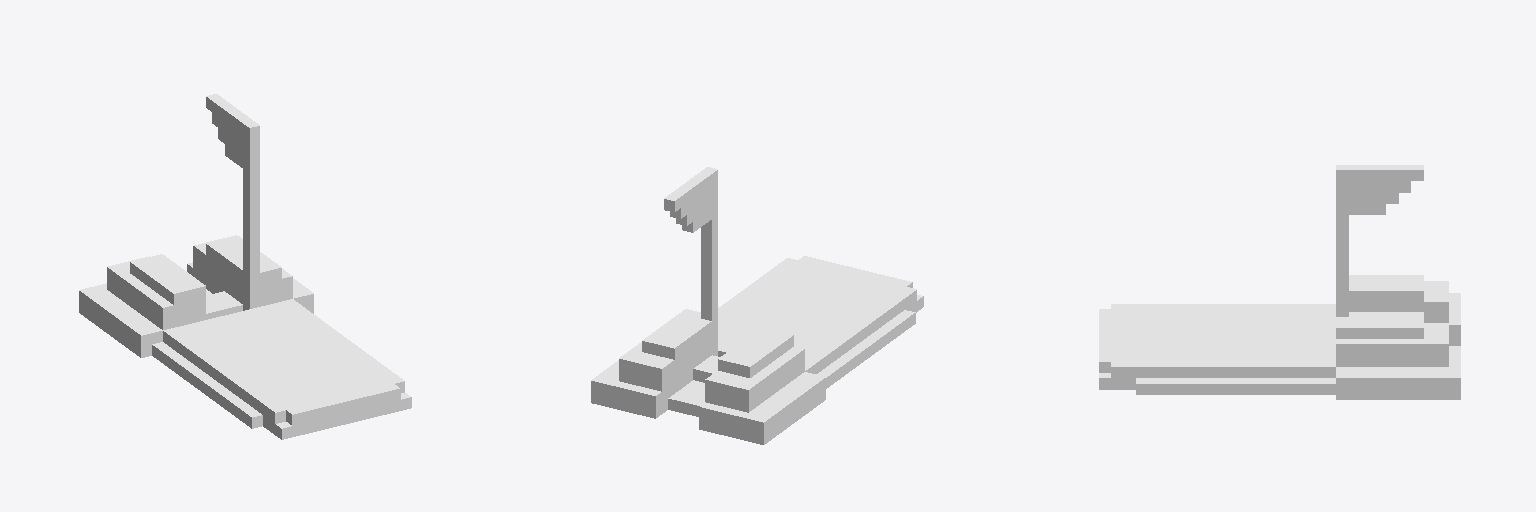
File: ship1.obj
3 views of the same model, side by side, from view 1: azimuth 30°, elevation 25°; view 2: azimuth 150°, elevation 25°; view 3: azimuth 270°, elevation 25° (orthographic).
Visible parts, largest first — view 1: object 1; view 2: object 1; view 3: object 1.
Part boxes in pixels (x1,y1,x2,y2): object 1: (79, 94, 411, 439); object 1: (591, 167, 923, 444); object 1: (1099, 165, 1460, 399).
Size of the model in its own units: 1.6 by 1.8 by 2.9.